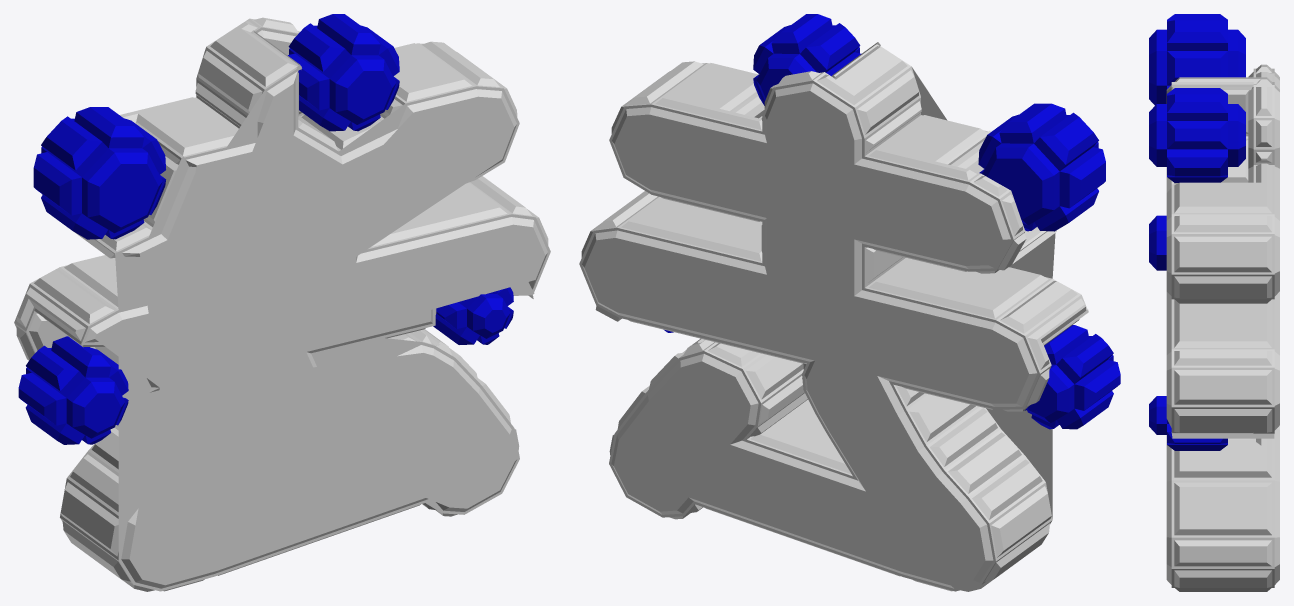
Rendered from Ch_China_去_01.fbx.
3 renders of one model, left to right at view 1: azimuth 30°, elevation 25°; view 2: azimuth 150°, elevation 25°; view 3: azimuth 270°, elevation 25°, orthographic. The views are drawn at different scales.
Parts seen in each view (by area): view 1: sphere1; view 2: sphere1; view 3: sphere1.
Part boxes in pixels (x1,y1,x2,y2): sphere1: [14, 14, 550, 591]; sphere1: [579, 14, 1120, 591]; sphere1: [1149, 14, 1279, 591].
Bounding box in the file's own units: 0.9954 × 0.9647 × 0.2541.
